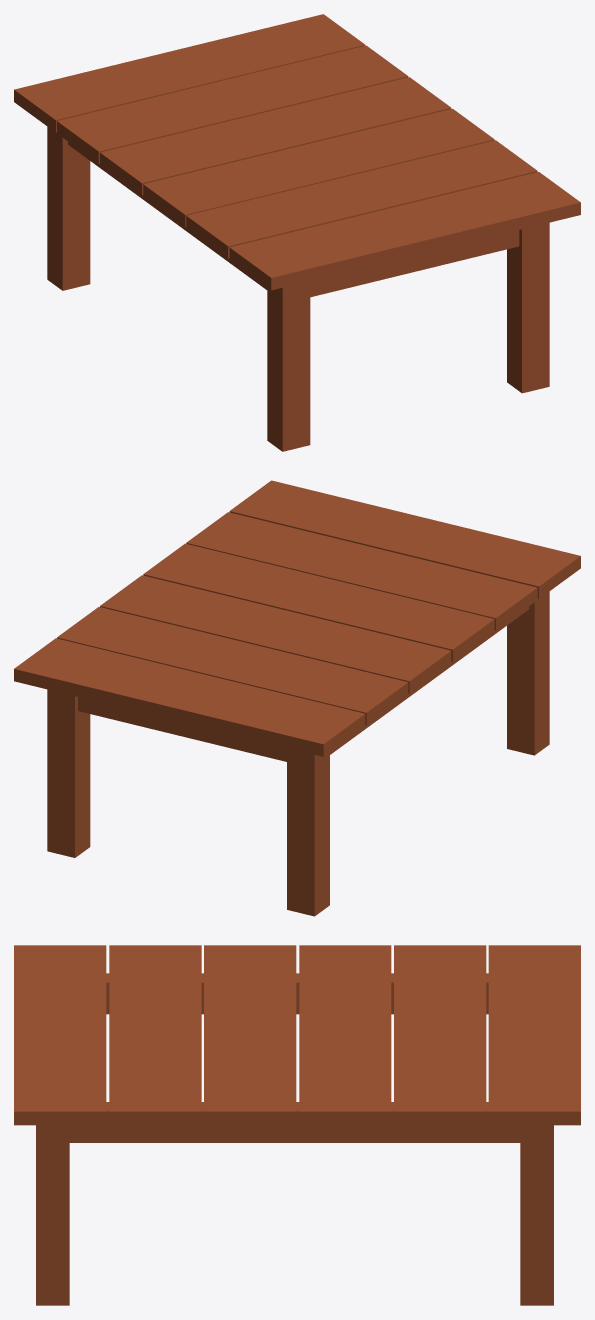
File: Prop_Furniture_Fantasy_Dungeon_Table_Wooden_Medium_02.FBX
3 views of the same model, one above another, from view 1: azimuth 30°, elevation 25°; view 2: azimuth 150°, elevation 25°; view 3: azimuth 270°, elevation 25° (orthographic). The views are drawn at different scales.
Parts seen in each view (by area): view 1: Prop_Furniture_Fantasy_Dungeon_Table_Wooden_Medium_02; view 2: Prop_Furniture_Fantasy_Dungeon_Table_Wooden_Medium_02; view 3: Prop_Furniture_Fantasy_Dungeon_Table_Wooden_Medium_02.
Boxes of the visible parts, bbox=[...] form: Prop_Furniture_Fantasy_Dungeon_Table_Wooden_Medium_02: bbox=[14, 14, 580, 451]; Prop_Furniture_Fantasy_Dungeon_Table_Wooden_Medium_02: bbox=[14, 480, 580, 916]; Prop_Furniture_Fantasy_Dungeon_Table_Wooden_Medium_02: bbox=[14, 945, 580, 1305].
Size of the model in its own units: 1524 by 876 by 2195.
